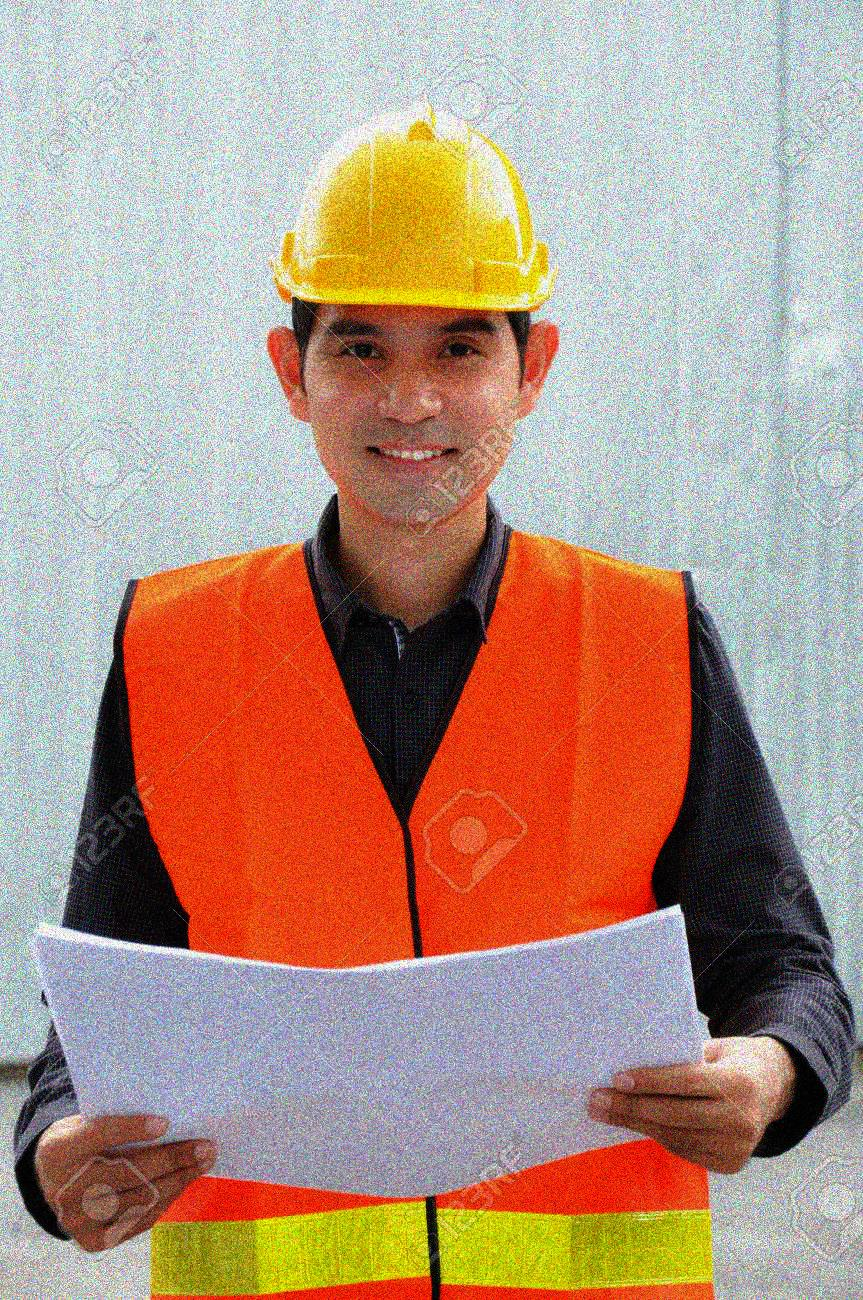helmet: (268, 101, 562, 524)
